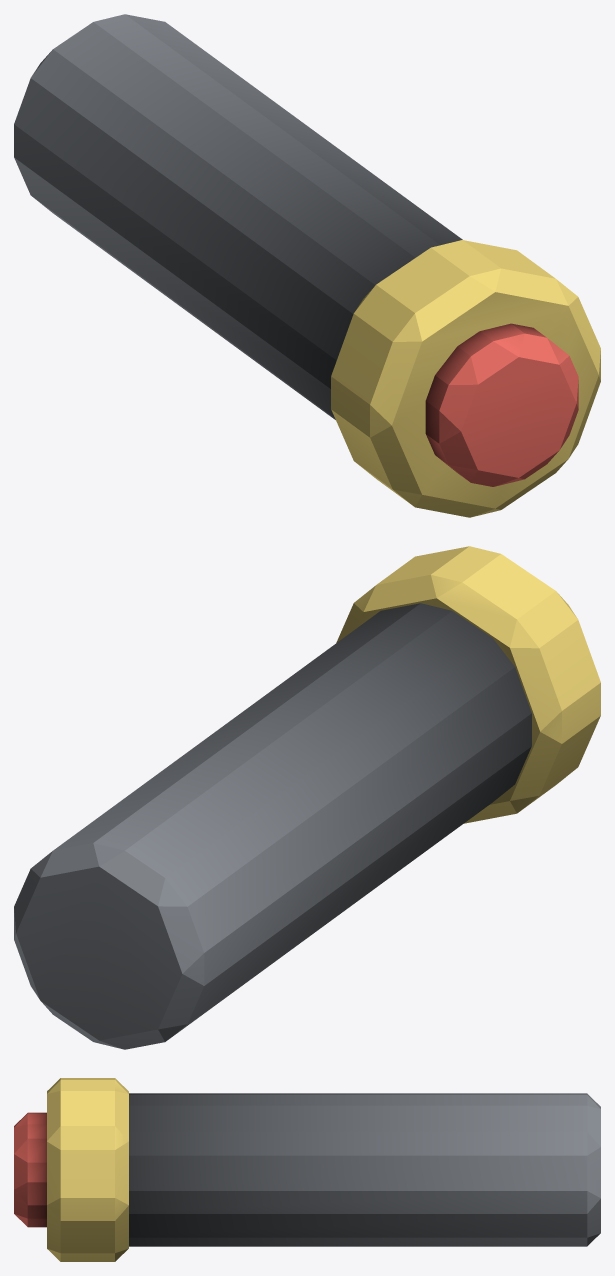
File: AttLaserRed.fbx
The picture shows the model from 3 angles, top to bottom: view 1: azimuth 30°, elevation 25°; view 2: azimuth 150°, elevation 25°; view 3: azimuth 270°, elevation 25°; orthographic projection. The views are drawn at different scales.
Parts seen in each view (by area): view 1: Body; view 2: Body; view 3: Body.
Part boxes in pixels (bbox=[...]): Body: bbox=[14, 14, 600, 517]; Body: bbox=[14, 546, 600, 1049]; Body: bbox=[14, 1078, 600, 1261].
Bounding box in the file's own units: 0.0454 × 0.0454 × 0.143.
